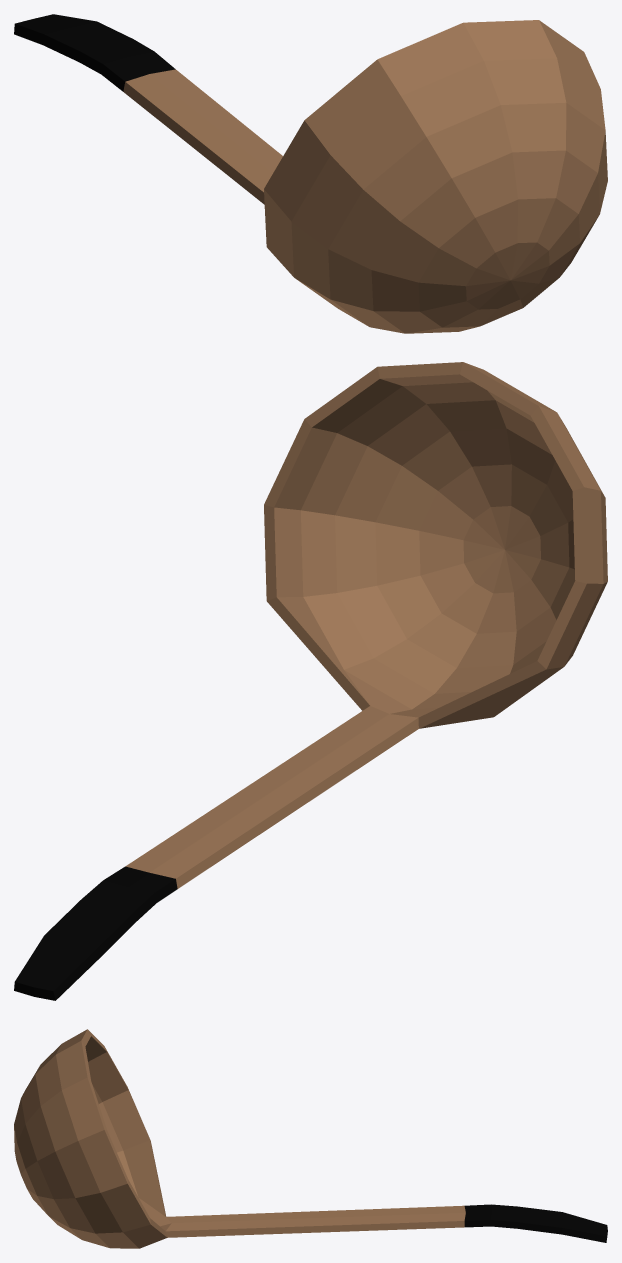
File: Senduk.fbx
3 renders of one model, top to bottom at view 1: azimuth 30°, elevation 25°; view 2: azimuth 150°, elevation 25°; view 3: azimuth 270°, elevation 25°, orthographic. The views are drawn at different scales.
Parts seen in each view (by area): view 1: Laddle; view 2: Laddle; view 3: Laddle.
Boxes of the visible parts, left/top/right/bottom form: Laddle: left=14, top=14, right=607, bottom=333; Laddle: left=14, top=362, right=607, bottom=1000; Laddle: left=14, top=1029, right=607, bottom=1248.
Bounding box in the file's own units: 19.23 × 18.35 × 49.95.
